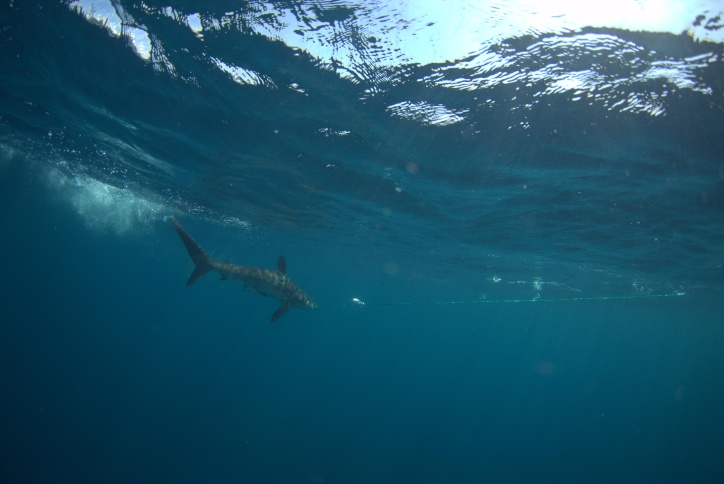Sedoso: (157, 208, 325, 322)
